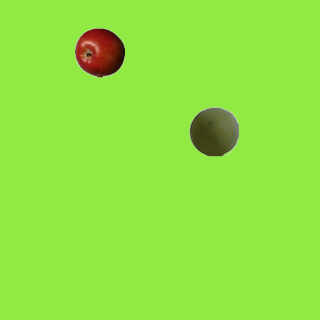Apple Braeburn: (74, 27, 124, 77)
Grape White 4: (188, 106, 238, 156)
